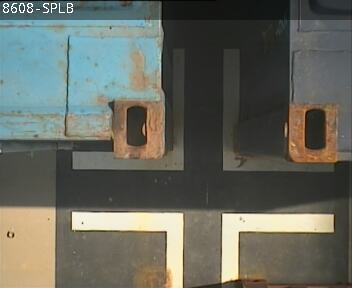groundmarker_1: (72, 49, 333, 172), (72, 209, 335, 284)
